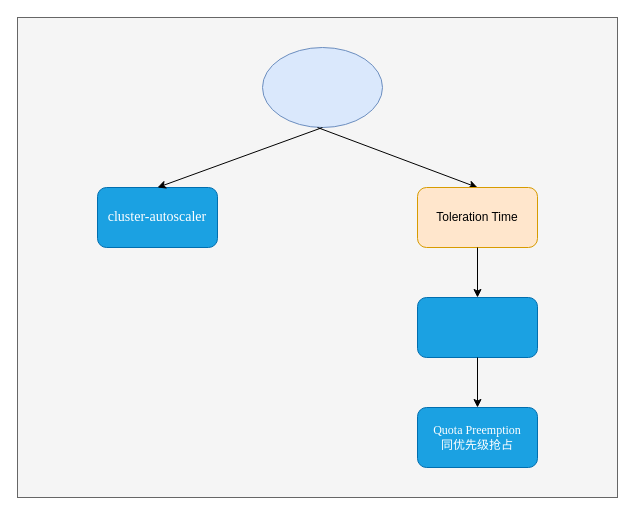
This 635x515 diagram has some shape labels left out. The shapes that lost their labels are listed below. From the top down, each one's centre as x and y in pixels, then its label:
(322,87): Pod Pending
(477,327): Default Preemption 高低优先级抢占
